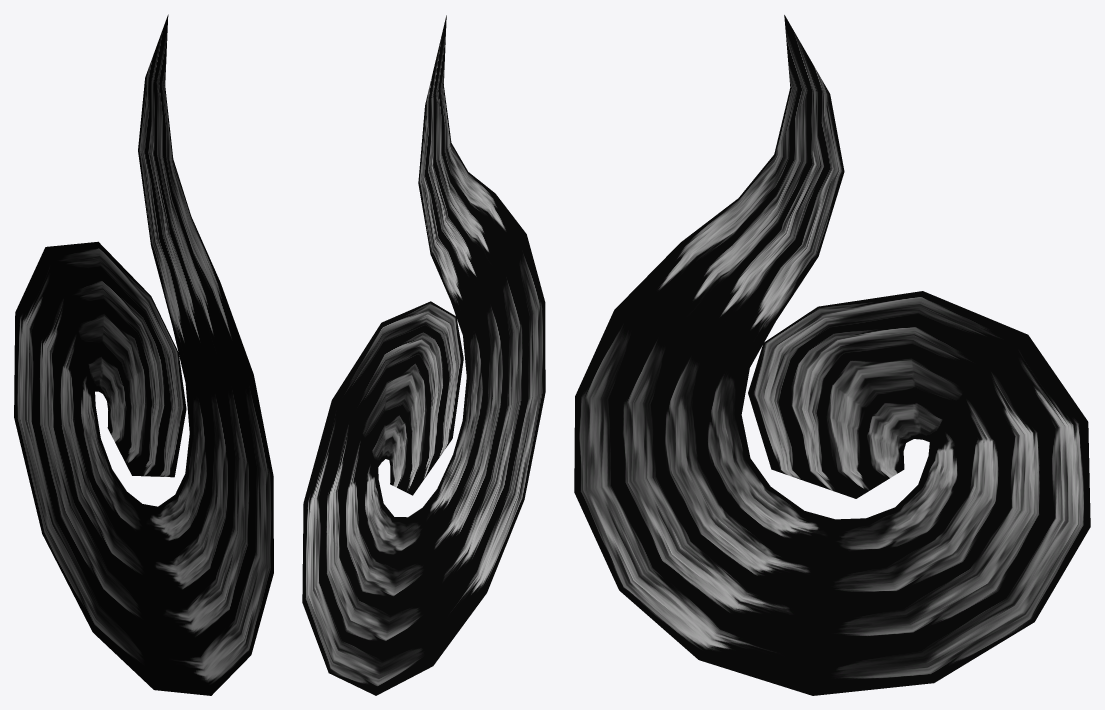
The model's file is Amateras3.fbx.
3 views of the same model, side by side, from view 1: azimuth 30°, elevation 25°; view 2: azimuth 150°, elevation 25°; view 3: azimuth 270°, elevation 25° (orthographic). The views are drawn at different scales.
Visible parts, largest first — view 1: SM_WEP_Eff_Amaterasu_B_01.mo; view 2: SM_WEP_Eff_Amaterasu_B_01.mo; view 3: SM_WEP_Eff_Amaterasu_B_01.mo.
Boxes of the visible parts, x1,y1,x2,y2 form: SM_WEP_Eff_Amaterasu_B_01.mo: (14, 14, 273, 695); SM_WEP_Eff_Amaterasu_B_01.mo: (302, 15, 545, 695); SM_WEP_Eff_Amaterasu_B_01.mo: (574, 15, 1090, 695).
Size of the model in its own units: 2.86e-06 by 27.29 by 18.73.
